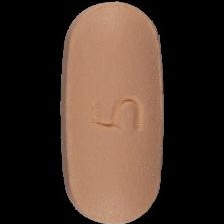0456-3205: (0, 0, 224, 224)
